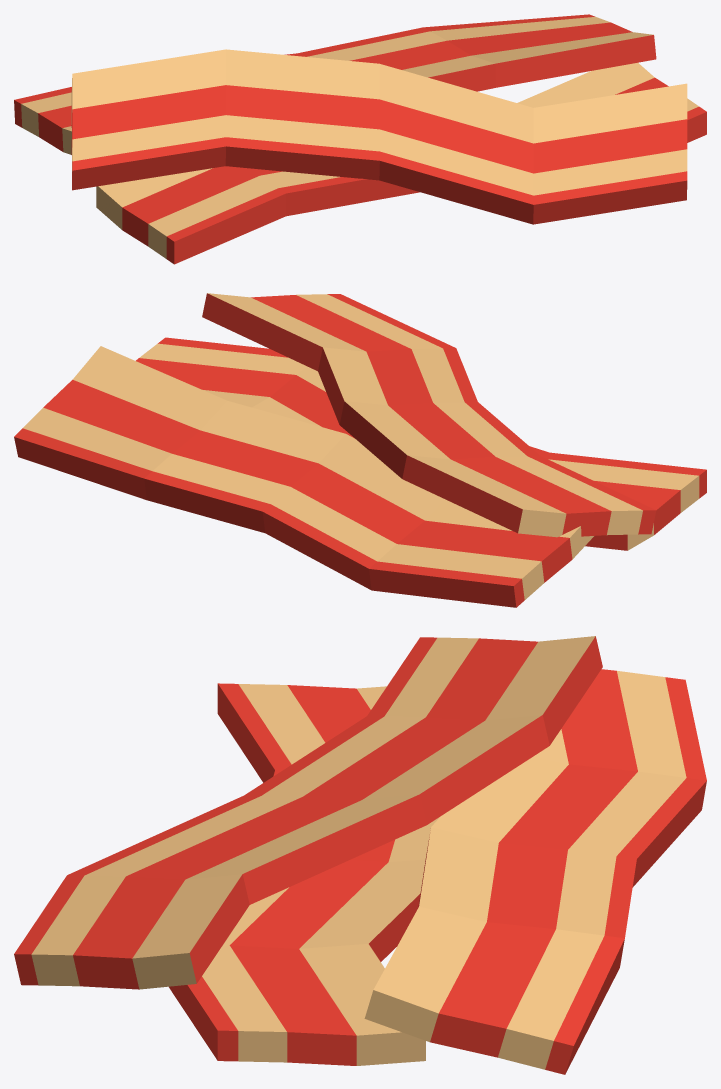
Rendered from Bacon.glb.
The picture shows the model from 3 angles, top to bottom: view 1: azimuth 30°, elevation 25°; view 2: azimuth 150°, elevation 25°; view 3: azimuth 270°, elevation 25°; orthographic projection. The views are drawn at different scales.
Visible parts, largest first — view 1: Bacon_Cube.034; view 2: Bacon_Cube.034; view 3: Bacon_Cube.034.
Boxes of the visible parts, left/top/right/bottom form: Bacon_Cube.034: left=14, top=14, right=706, bottom=264; Bacon_Cube.034: left=14, top=293, right=706, bottom=607; Bacon_Cube.034: left=14, top=636, right=706, bottom=1074.
Size of the model in its own units: 13.84 by 2.02 by 10.83.
